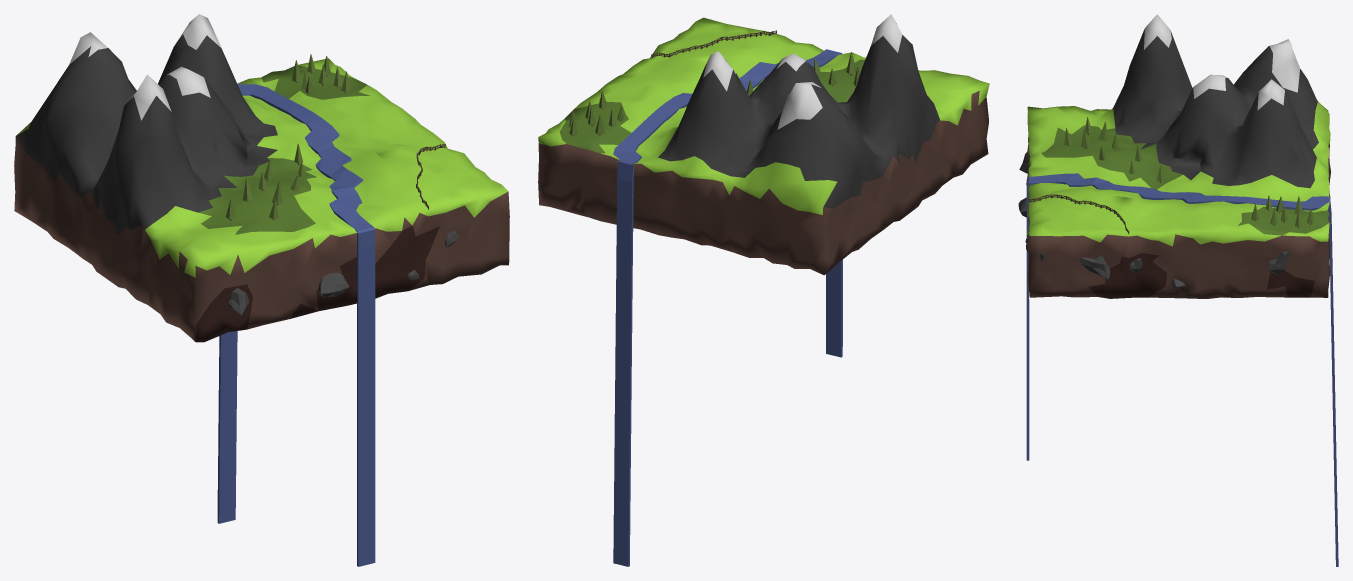
File: river.dae
3 renders of one model, left to right at view 1: azimuth 30°, elevation 25°; view 2: azimuth 150°, elevation 25°; view 3: azimuth 270°, elevation 25°, orthographic. The views are drawn at different scales.
Visible parts, largest first — view 1: Plane, Plane_001; view 2: Plane, Plane_001; view 3: Plane, Plane_001, Icosphere_001.
Boxes of the visible parts, left/top/right/bottom form: Plane: left=14, top=14, right=509, bottom=342; Plane_001: left=217, top=83, right=375, bottom=566; Plane: left=538, top=14, right=989, bottom=275; Plane_001: left=613, top=49, right=842, bottom=566; Plane: left=1026, top=14, right=1330, bottom=298; Plane_001: left=1026, top=173, right=1338, bottom=566; Icosphere_001: left=1079, top=255, right=1110, bottom=279.
Size of the model in its own units: 4.14 by 4.27 by 6.98.
